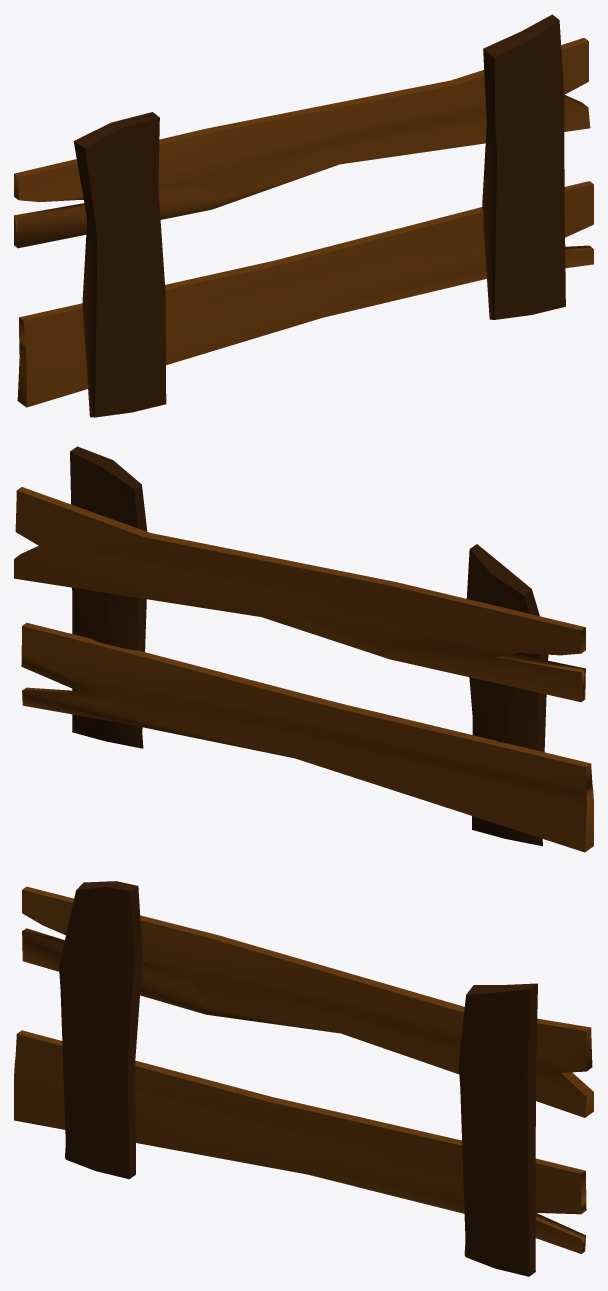
File: Cerca de Madera Normal.fbx
3 renders of one model, top to bottom at view 1: azimuth 30°, elevation 25°; view 2: azimuth 150°, elevation 25°; view 3: azimuth 330°, elevation 25°, orthographic.
Parts seen in each view (by area): view 1: Madera_14; view 2: Madera_14; view 3: Madera_14.
Boxes of the visible parts, x1,y1,x2,y2 form: Madera_14: [14, 14, 593, 417]; Madera_14: [14, 446, 593, 852]; Madera_14: [14, 881, 593, 1276].
Bounding box in the file's own units: 600 × 288 × 46.38.
